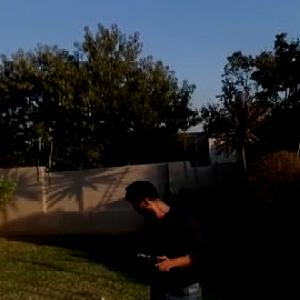follow: (123, 174, 214, 299)
